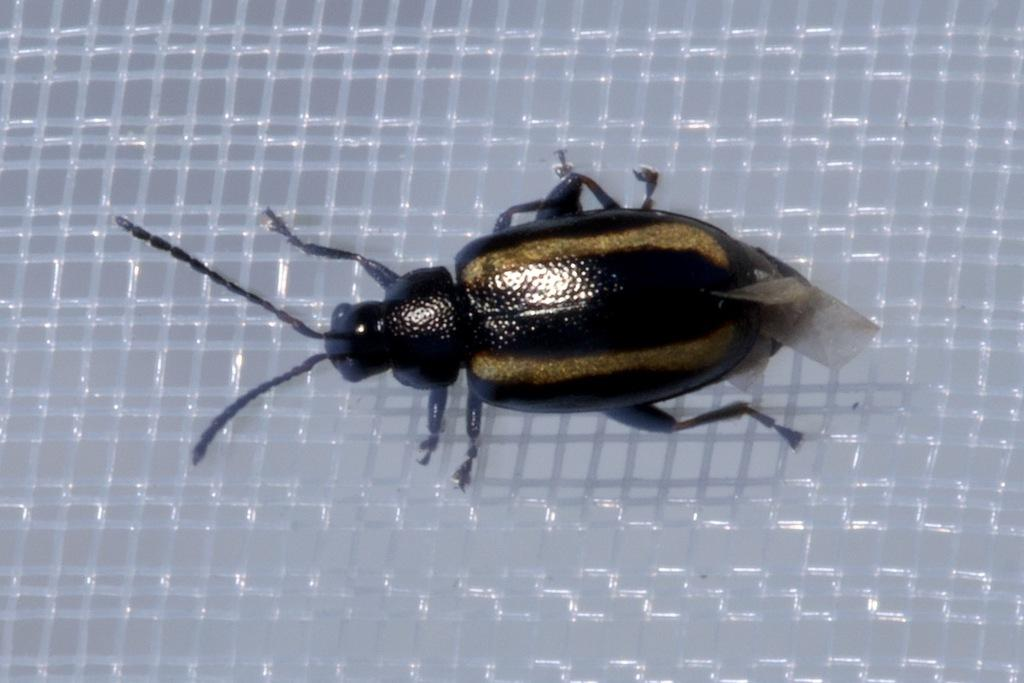flea_beetle: (79, 108, 923, 561)
